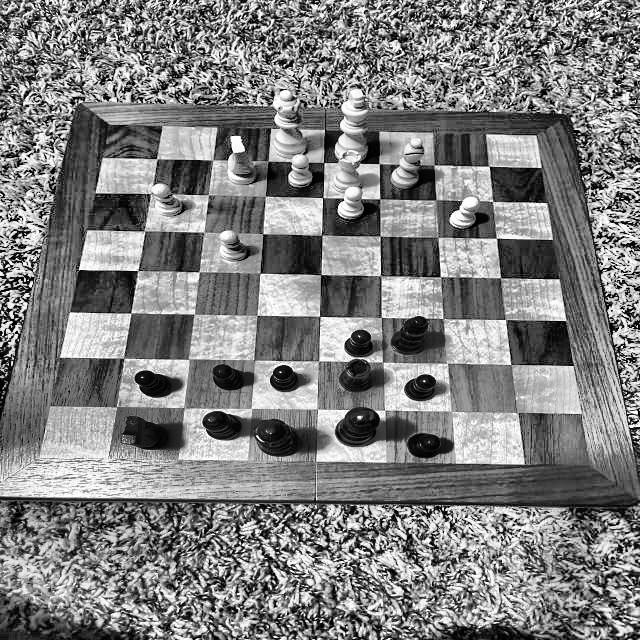black-bishop: (384, 312, 432, 360), (200, 410, 248, 442)
black-king: (320, 406, 386, 463)
black-knight: (114, 412, 172, 453)
black-pawn: (130, 368, 174, 401), (266, 363, 306, 395), (210, 361, 249, 392), (340, 328, 379, 359), (404, 372, 440, 402), (406, 431, 444, 459)
black-queen: (252, 408, 316, 464)
black-rook: (334, 358, 379, 395)
white-bishop: (389, 136, 427, 192)
white-king: (331, 88, 370, 167)
white-knight: (223, 134, 262, 188)
white-pawn: (148, 179, 186, 219), (445, 194, 483, 232), (332, 185, 372, 221), (215, 228, 251, 266), (284, 154, 318, 190)
white-queen: (262, 88, 318, 160)
white-rook: (331, 146, 366, 198)
